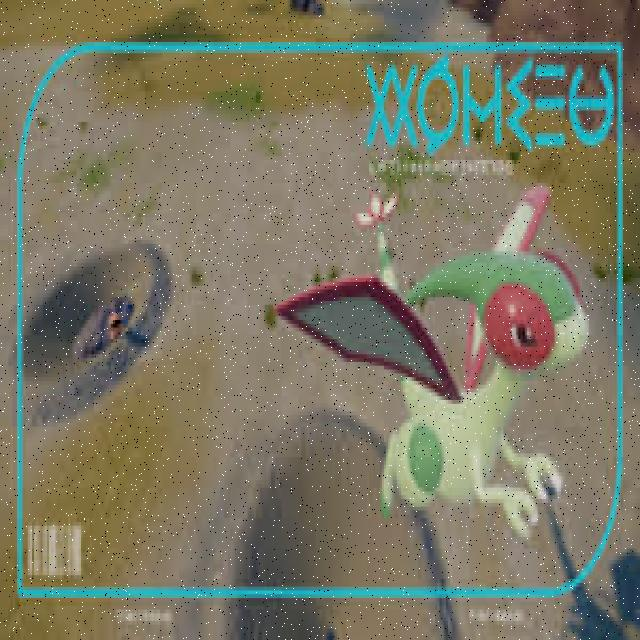flygon: (274, 180, 595, 542)
